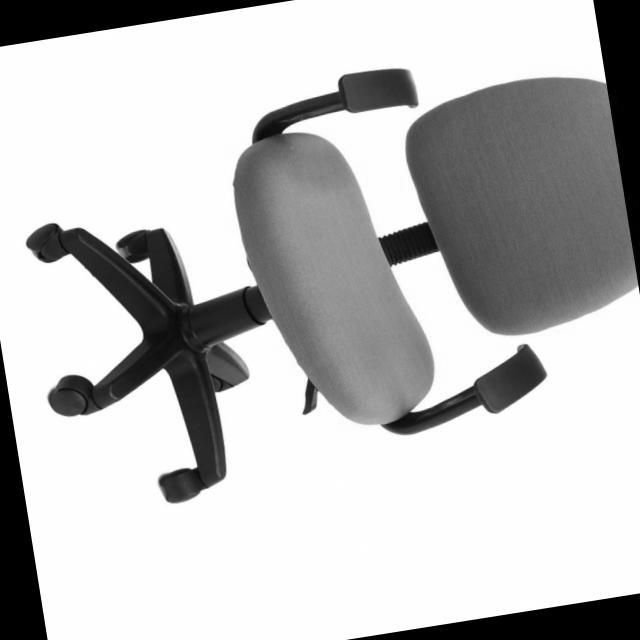chair: (0, 29, 640, 530)
